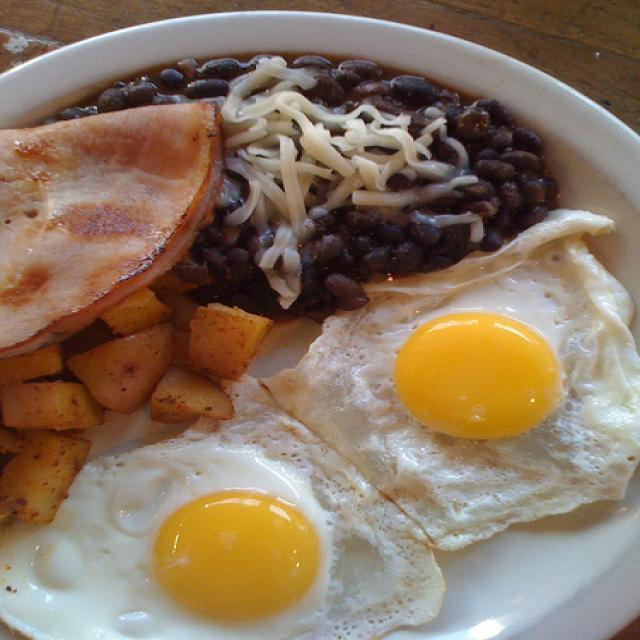Egg: (0, 431, 459, 640), (303, 268, 634, 534)
